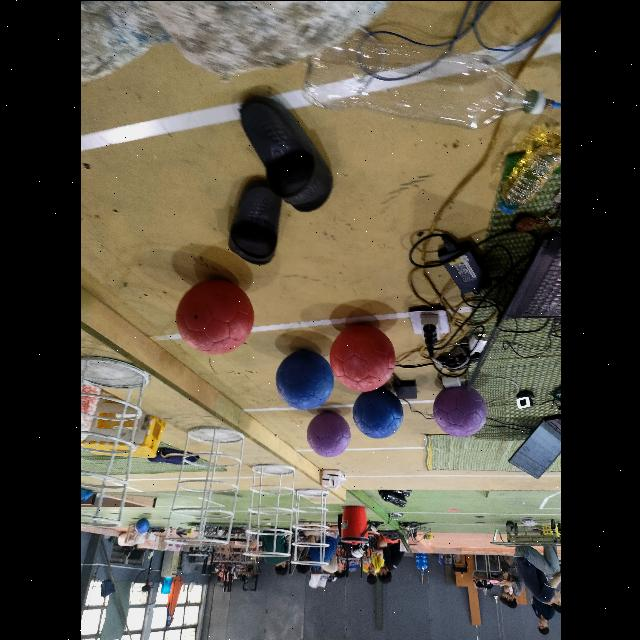B: (275, 349, 333, 408), (352, 388, 402, 438)
P: (432, 386, 486, 436), (306, 412, 349, 456)
R: (175, 279, 252, 353), (330, 325, 394, 391)
